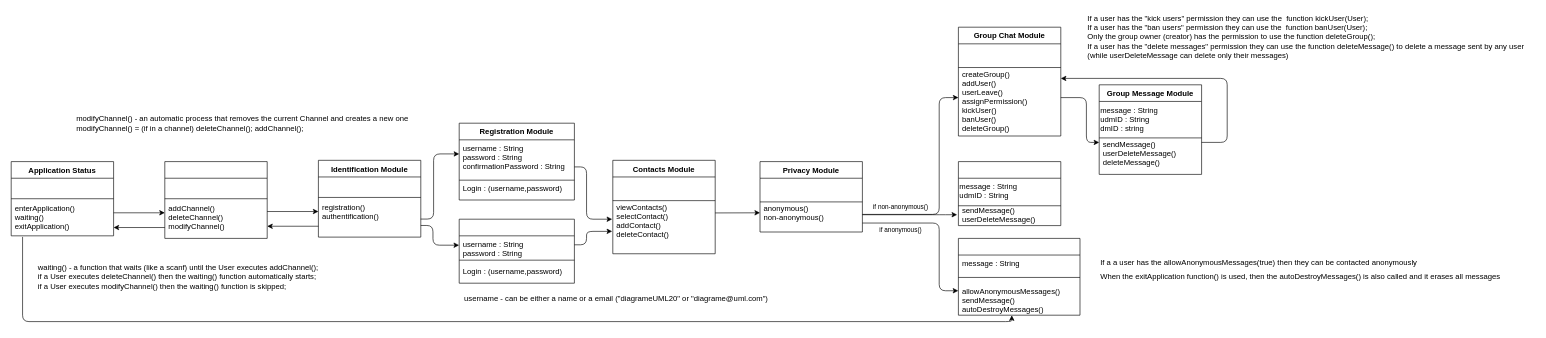
The diagram is 1546 pixels wide and 338 high, and some of its shapes have lost their labels. Each missing label, with the box of its shape:
Administration Module: (164, 161, 267, 238)
Anonymous Message Module: (958, 238, 1080, 315)
Authentification Module: (459, 219, 574, 283)
Private Message Module: (958, 161, 1061, 226)
